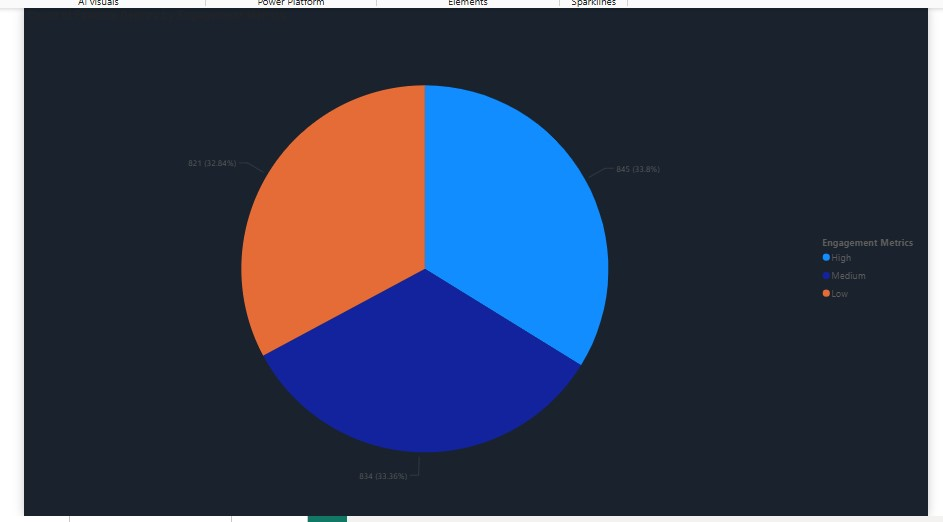

What the dashboard file says about the page in this screenshot:
{"tool":"powerbi","page":{"name":"Fav Genera n Engaged","canvas":[1280,720],"ordinal":1},"visuals":[{"type":"pieChart","fields":{"Category":["amazon_prime_users.Engagement Metrics"],"Y":["CountNonNull(amazon_prime_users.Favorite Genres)"]},"box":[0,0,1280.3,720.4],"z":0}]}

Visuals, with their boxes in screenshot pixels (x1, y1, x2, y2):
pieChart - amazon_prime_users.Engagement Metrics x CountNonNull(amazon_prime_users.Favorite Genres): [7,2,925,519]
